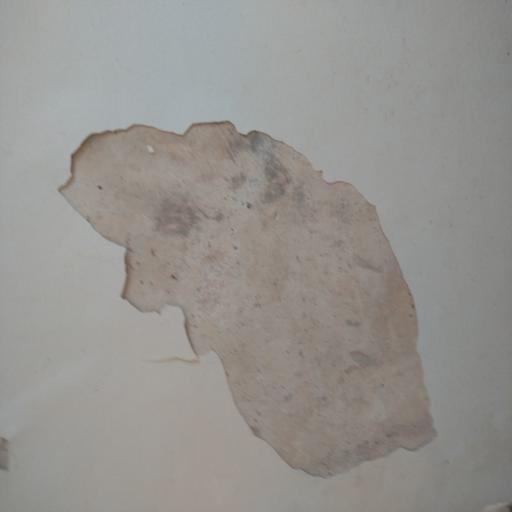peeling: (51, 109, 451, 483)
